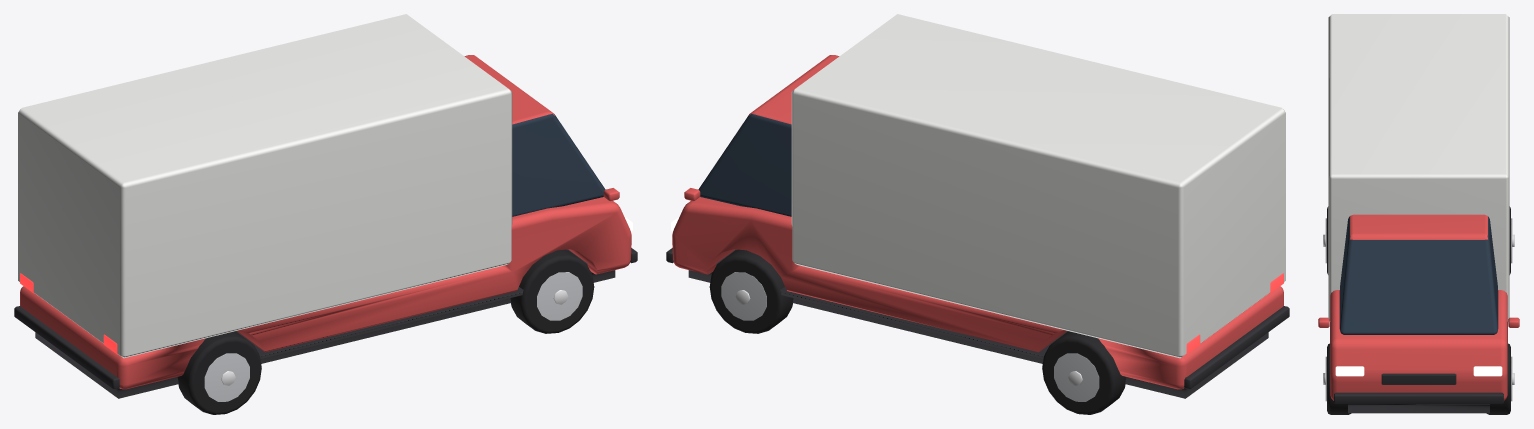
The model's file is rc-boxtruck.glb.
The picture shows the model from 3 angles, left to right: view 1: azimuth 30°, elevation 25°; view 2: azimuth 150°, elevation 25°; view 3: azimuth 270°, elevation 25°; orthographic projection. The views are drawn at different scales.
Visible parts, largest first — view 1: car_boxtruck; view 2: car_boxtruck; view 3: car_boxtruck.
Boxes of the visible parts, left/top/right/bottom form: car_boxtruck: left=14, top=14, right=637, bottom=414; car_boxtruck: left=666, top=14, right=1289, bottom=414; car_boxtruck: left=1318, top=14, right=1519, bottom=414.
Bounding box in the file's own units: 6.56 × 3.05 × 2.55.
